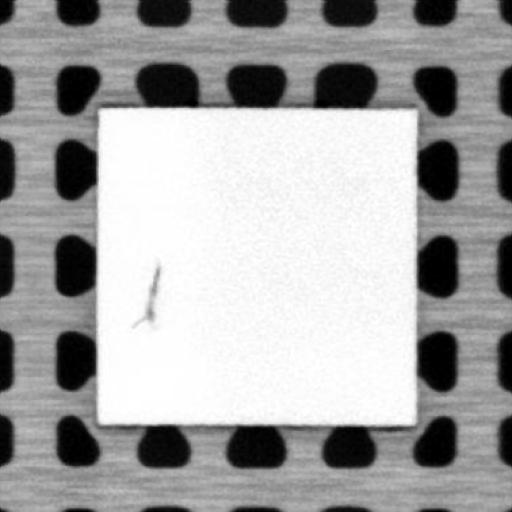DIE_INK: (130, 259, 159, 327)
